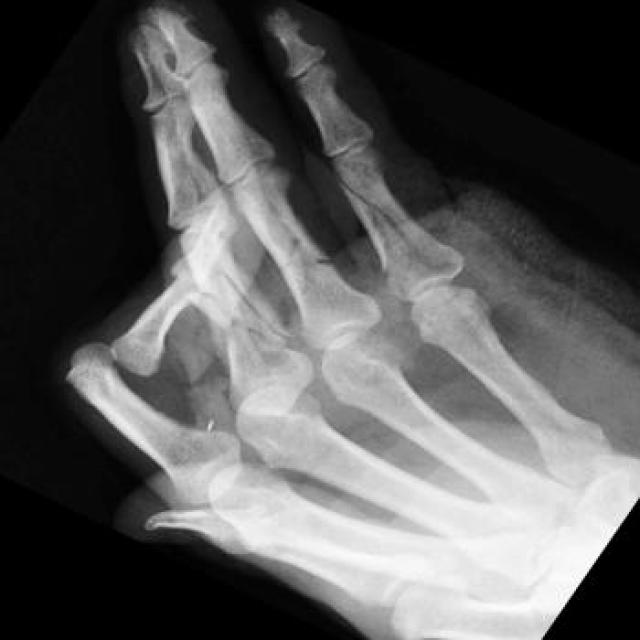Fracture: (347, 188, 456, 274), (202, 261, 295, 350), (63, 325, 167, 392), (269, 229, 342, 276)
